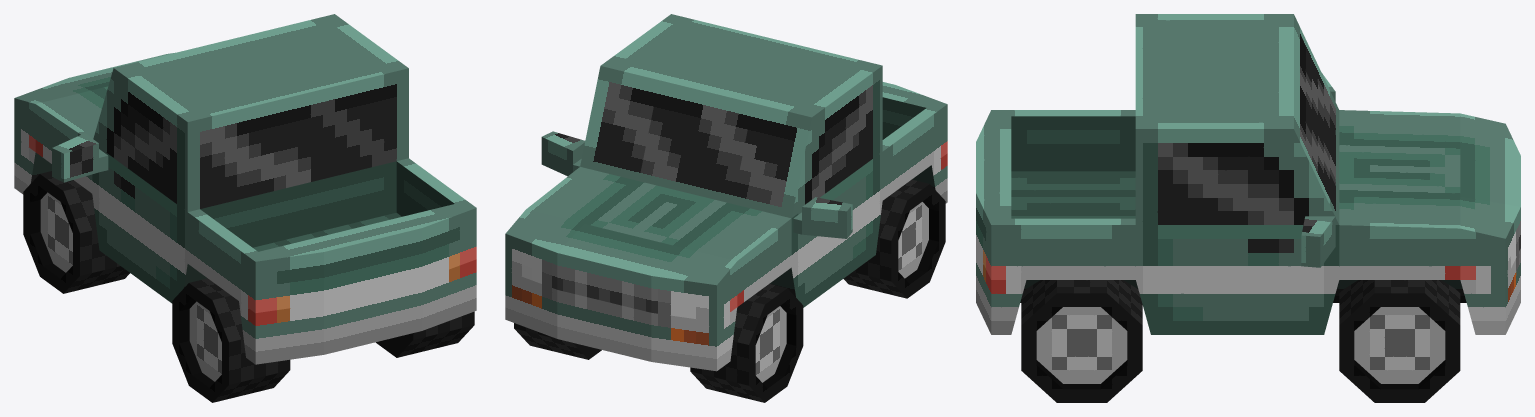
Rendered from Pick Up Truck.gltf.
3 views of the same model, side by side, from view 1: azimuth 30°, elevation 25°; view 2: azimuth 150°, elevation 25°; view 3: azimuth 270°, elevation 25° (orthographic). The views are drawn at different scales.
Visible parts, largest first — view 1: body, cylinder (×3), mirror_right; view 2: body, cylinder (×3), mirror_right, mirror_left; view 3: body, cylinder (×2), mirror_left.
Boxes of the visible parts, <box> form: body: <box>14,14,476,364</box>; cylinder (×3): <box>23,171,474,402</box>; mirror_right: <box>52,133,108,182</box>; body: <box>505,14,947,371</box>; cylinder (×3): <box>514,179,945,402</box>; mirror_right: <box>793,197,852,238</box>; mirror_left: <box>541,131,585,176</box>; body: <box>976,14,1520,334</box>; cylinder (×2): <box>1021,280,1460,402</box>; mirror_left: <box>1301,216,1335,267</box>.
Bounding box in the file's own units: 1.62 × 1.22 × 2.25.
1 material, 1 textured.
